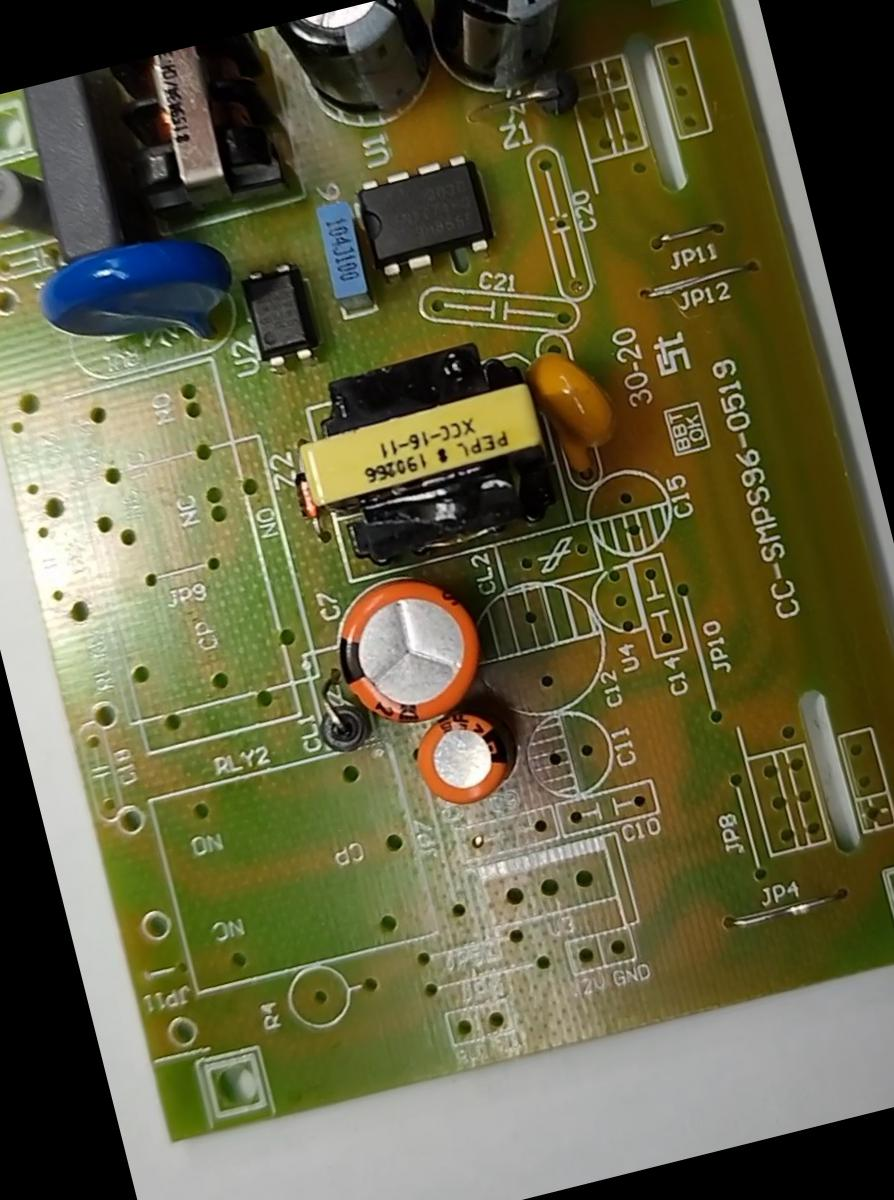Cap1: (310, 552, 502, 742)
Cap2: (396, 690, 530, 822)
Cap3: (255, 0, 457, 153)
Cap4: (416, 0, 617, 114)
MOSFET: (347, 141, 501, 282)
Mov: (26, 210, 254, 398)
Resistor: (0, 144, 72, 269)
Transformer: (272, 323, 576, 588), (90, 27, 312, 236)
